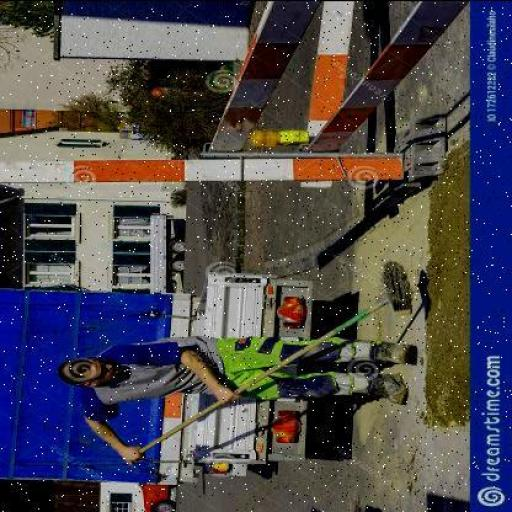person: (56, 333, 425, 446)
safety_shoe: (370, 369, 413, 405), (373, 336, 413, 362)
